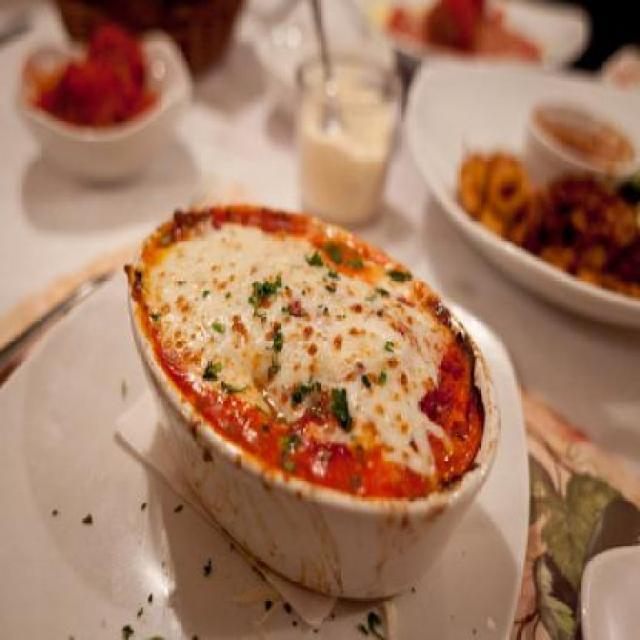Lasagna: (144, 210, 464, 539)
